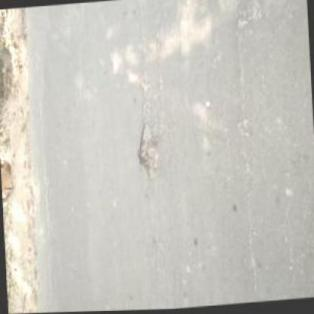Hueco: (134, 118, 162, 180)
